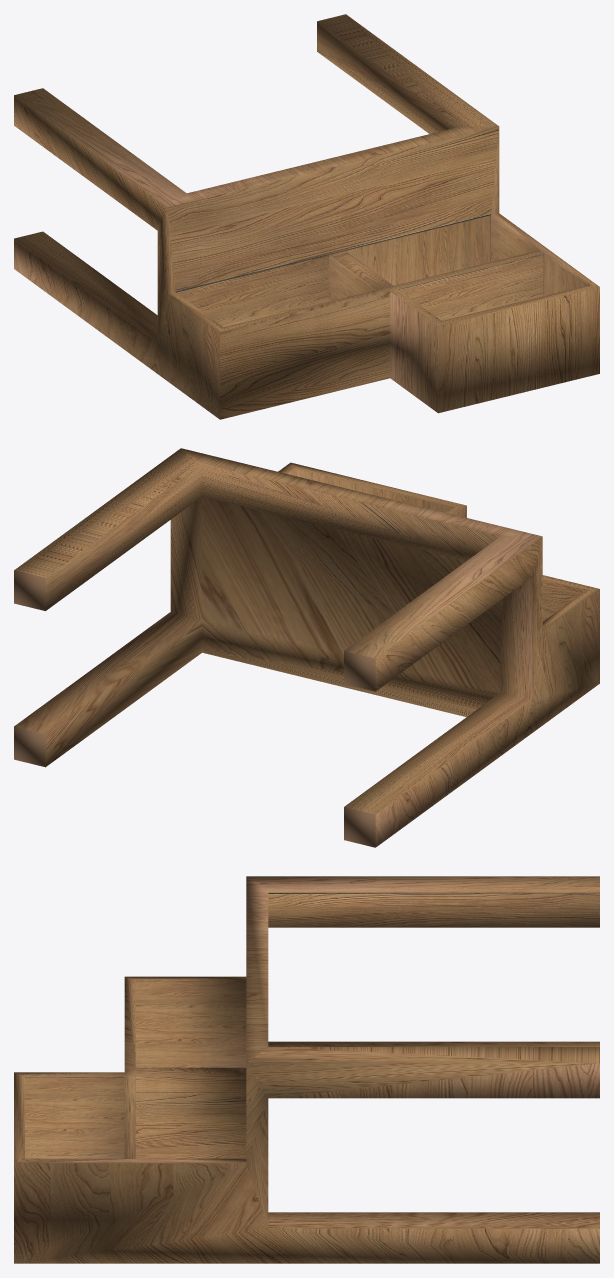
File: table.obj
3 renders of one model, top to bottom at view 1: azimuth 30°, elevation 25°; view 2: azimuth 150°, elevation 25°; view 3: azimuth 270°, elevation 25°, orthographic. The views are drawn at different scales.
Visible parts, largest first — view 1: table; view 2: table; view 3: table.
Boxes of the visible parts, x1,y1,x2,y2 form: table: (14,14,599,419); table: (14,448,599,847); table: (14,876,599,1263).
Bounding box in the file's own units: 0.8 × 0.4 × 1.06.
